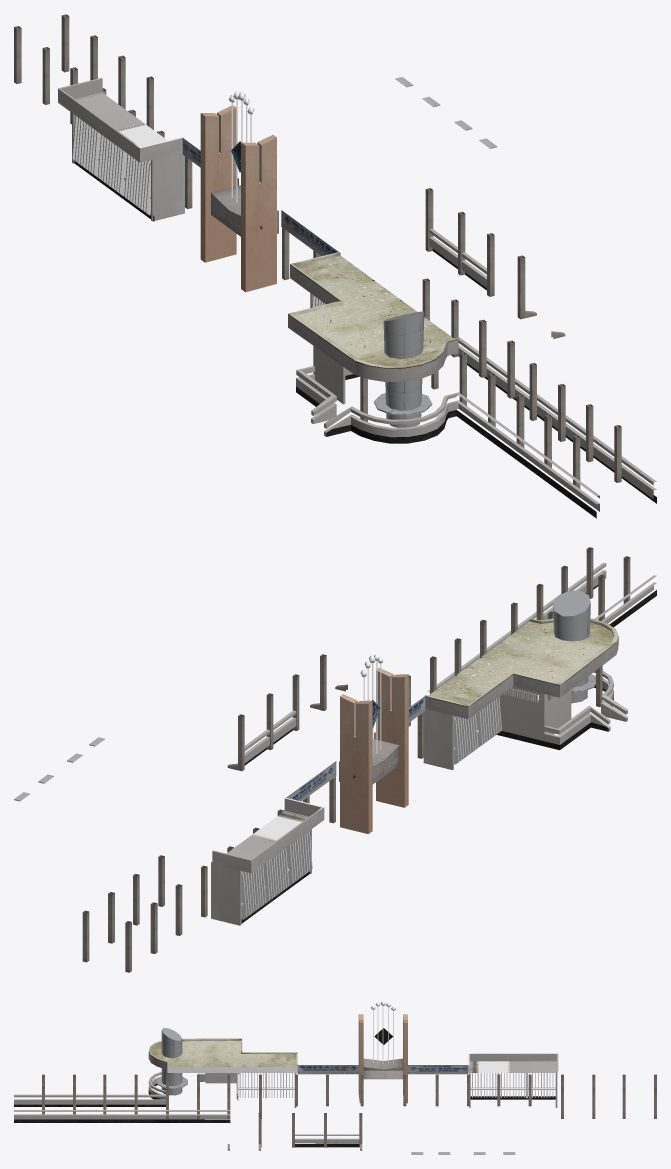
The model's file is part-polysurface455_van_phong_doan1_0.glb.
3 renders of one model, top to bottom at view 1: azimuth 30°, elevation 25°; view 2: azimuth 150°, elevation 25°; view 3: azimuth 270°, elevation 25°, orthographic. The views are drawn at different scales.
Visible parts, largest first — view 1: polySurface455; view 2: polySurface455; view 3: polySurface455.
Boxes of the visible parts, x1=… form: polySurface455: x1=14, y1=14, x2=656, y2=518; polySurface455: x1=14, y1=547, x2=656, y2=972; polySurface455: x1=14, y1=1001, x2=656, y2=1154.
Bounding box in the file's own units: 80.34 × 36.97 × 214.
1 material, 1 textured.
